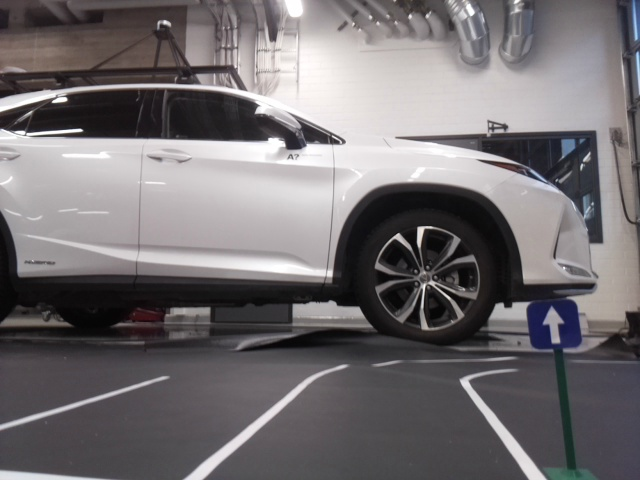OneWay: (526, 303, 582, 348)
